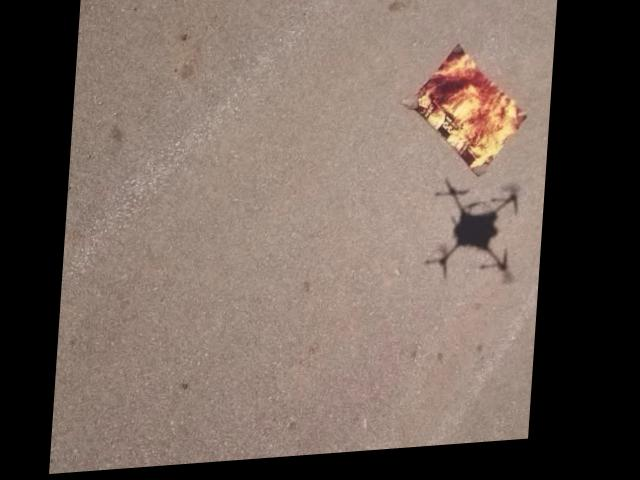fire-poster: (397, 46, 535, 190)
